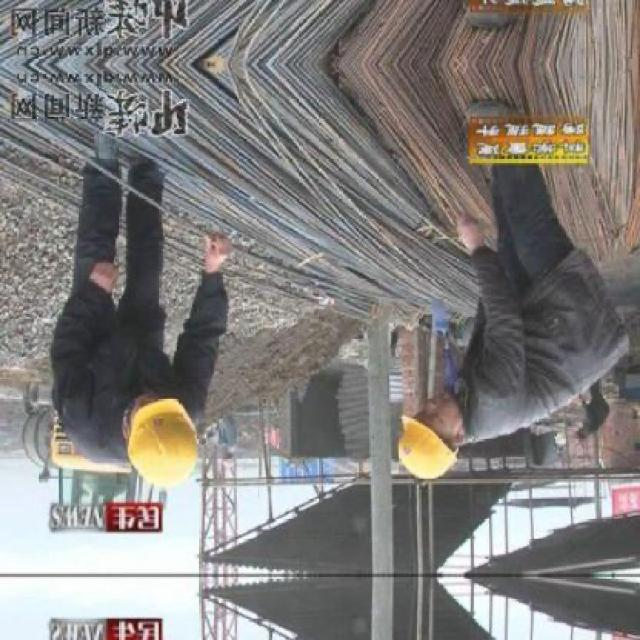con casco: (91, 356, 216, 508), (362, 375, 484, 491)
